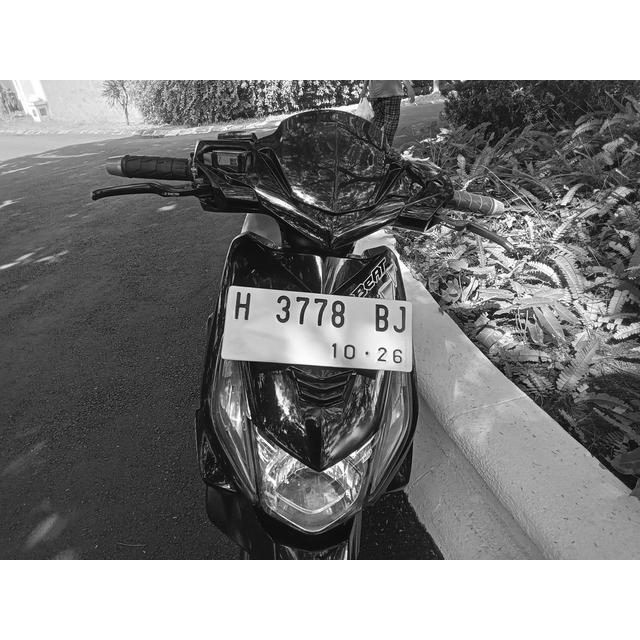license: (231, 285, 408, 372)
